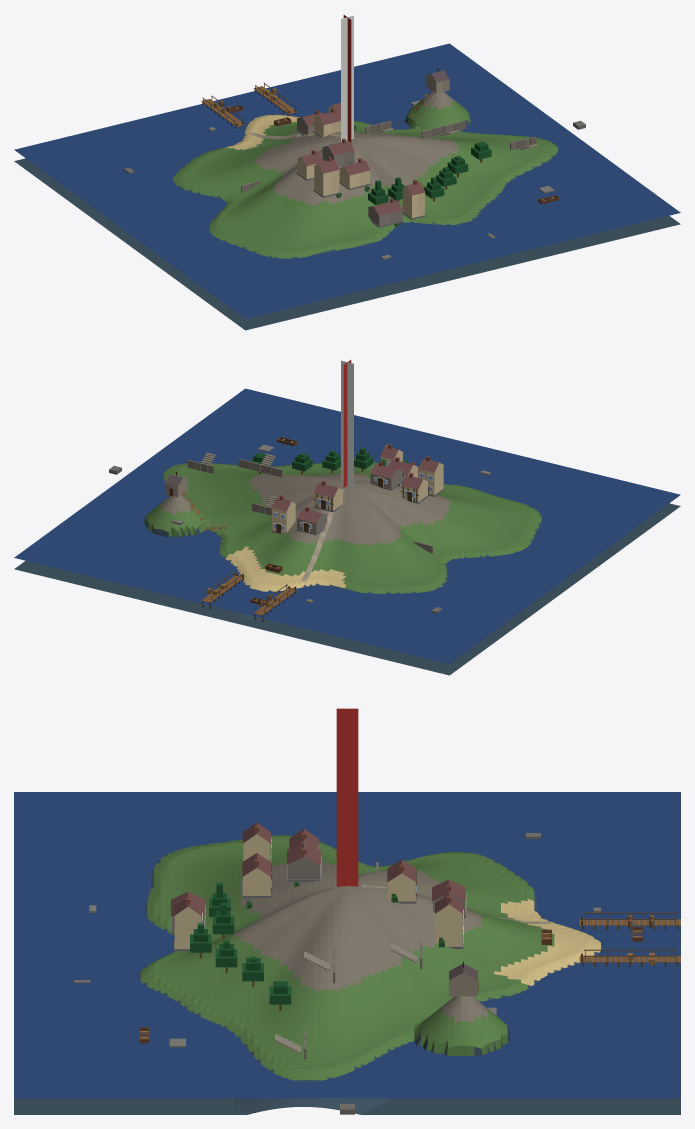
Rendered from scene_bad_v5_stair_short.obj.
3 renders of one model, top to bottom at view 1: azimuth 30°, elevation 25°; view 2: azimuth 150°, elevation 25°; view 3: azimuth 270°, elevation 25°, orthographic. The views are drawn at different scales.
Parts seen in each view (by area): view 1: water, terrain, lighthouse_tower, house_3_two_story, house_9_two_story, house_4_timber, house_8_stone, house_2_stone, house_7_timber, wall_3, house_1_timber; view 2: water, terrain, lighthouse_tower, house_6_two_story, house_3_two_story, house_7_timber, house_2_stone, house_5_stone, house_1_timber, wall_3, wall_2, pier_1; view 3: water, terrain, lighthouse_tower, house_6_two_story, house_2_stone, house_4_timber, house_9_two_story, house_7_timber, pier_2, pier_1, house_3_two_story, chapel_1 (+2 smaller).
Boxes of the visible parts, x1=… form: water: x1=14, y1=43, x2=680, y2=318; terrain: x1=14, y1=91, x2=680, y2=330; lighthouse_tower: x1=341, y1=15, x2=353, y2=142; house_3_two_story: x1=313, y1=157, x2=339, y2=197; house_9_two_story: x1=402, y1=179, x2=425, y2=219; house_4_timber: x1=339, y1=158, x2=370, y2=189; house_8_stone: x1=368, y1=198, x2=403, y2=227; house_2_stone: x1=322, y1=138, x2=354, y2=166; house_7_timber: x1=313, y1=108, x2=340, y2=137; wall_3: x1=365, y1=120, x2=538, y2=150; house_1_timber: x1=296, y1=150, x2=323, y2=180; water: x1=14, y1=388, x2=680, y2=663; terrain: x1=14, y1=462, x2=680, y2=675; lighthouse_tower: x1=341, y1=360, x2=353, y2=487; house_6_two_story: x1=271, y1=495, x2=295, y2=534; house_3_two_story: x1=418, y1=456, x2=444, y2=496; house_7_timber: x1=313, y1=480, x2=343, y2=512; house_2_stone: x1=370, y1=461, x2=402, y2=490; house_5_stone: x1=296, y1=506, x2=327, y2=535; house_1_timber: x1=401, y1=472, x2=428, y2=503; wall_3: x1=187, y1=452, x2=278, y2=515; wall_2: x1=238, y1=454, x2=282, y2=477; pier_1: x1=253, y1=584, x2=297, y2=621; water: x1=14, y1=792, x2=680, y2=1098; terrain: x1=14, y1=835, x2=680, y2=1114; lighthouse_tower: x1=336, y1=708, x2=358, y2=886; house_6_two_story: x1=435, y1=894, x2=463, y2=948; house_2_stone: x1=287, y1=842, x2=321, y2=881; house_4_timber: x1=242, y1=853, x2=271, y2=897; house_9_two_story: x1=174, y1=897, x2=202, y2=951; house_7_timber: x1=387, y1=859, x2=416, y2=903; pier_2: x1=579, y1=949, x2=680, y2=966; pier_1: x1=579, y1=912, x2=680, y2=929; house_3_two_story: x1=242, y1=822, x2=271, y2=878; chapel_1: x1=449, y1=961, x2=478, y2=996.
Bounding box in the file's own units: 104 × 38.5 × 92.
